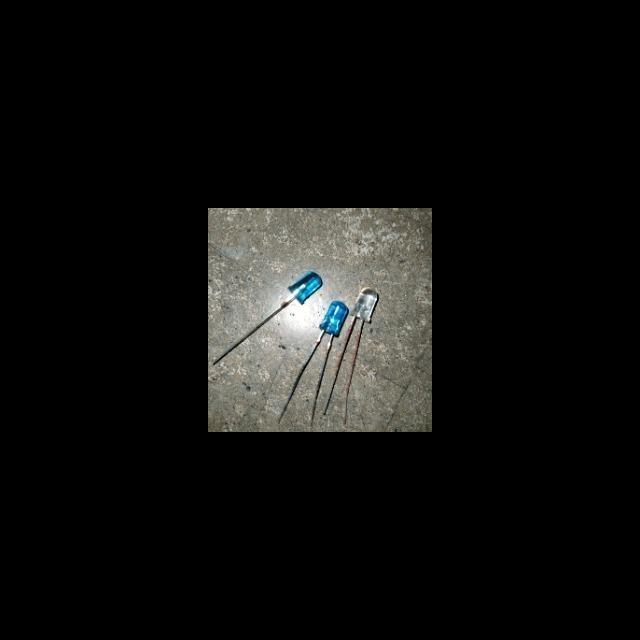plastic: (214, 248, 324, 369), (338, 278, 393, 408), (307, 298, 354, 408)
